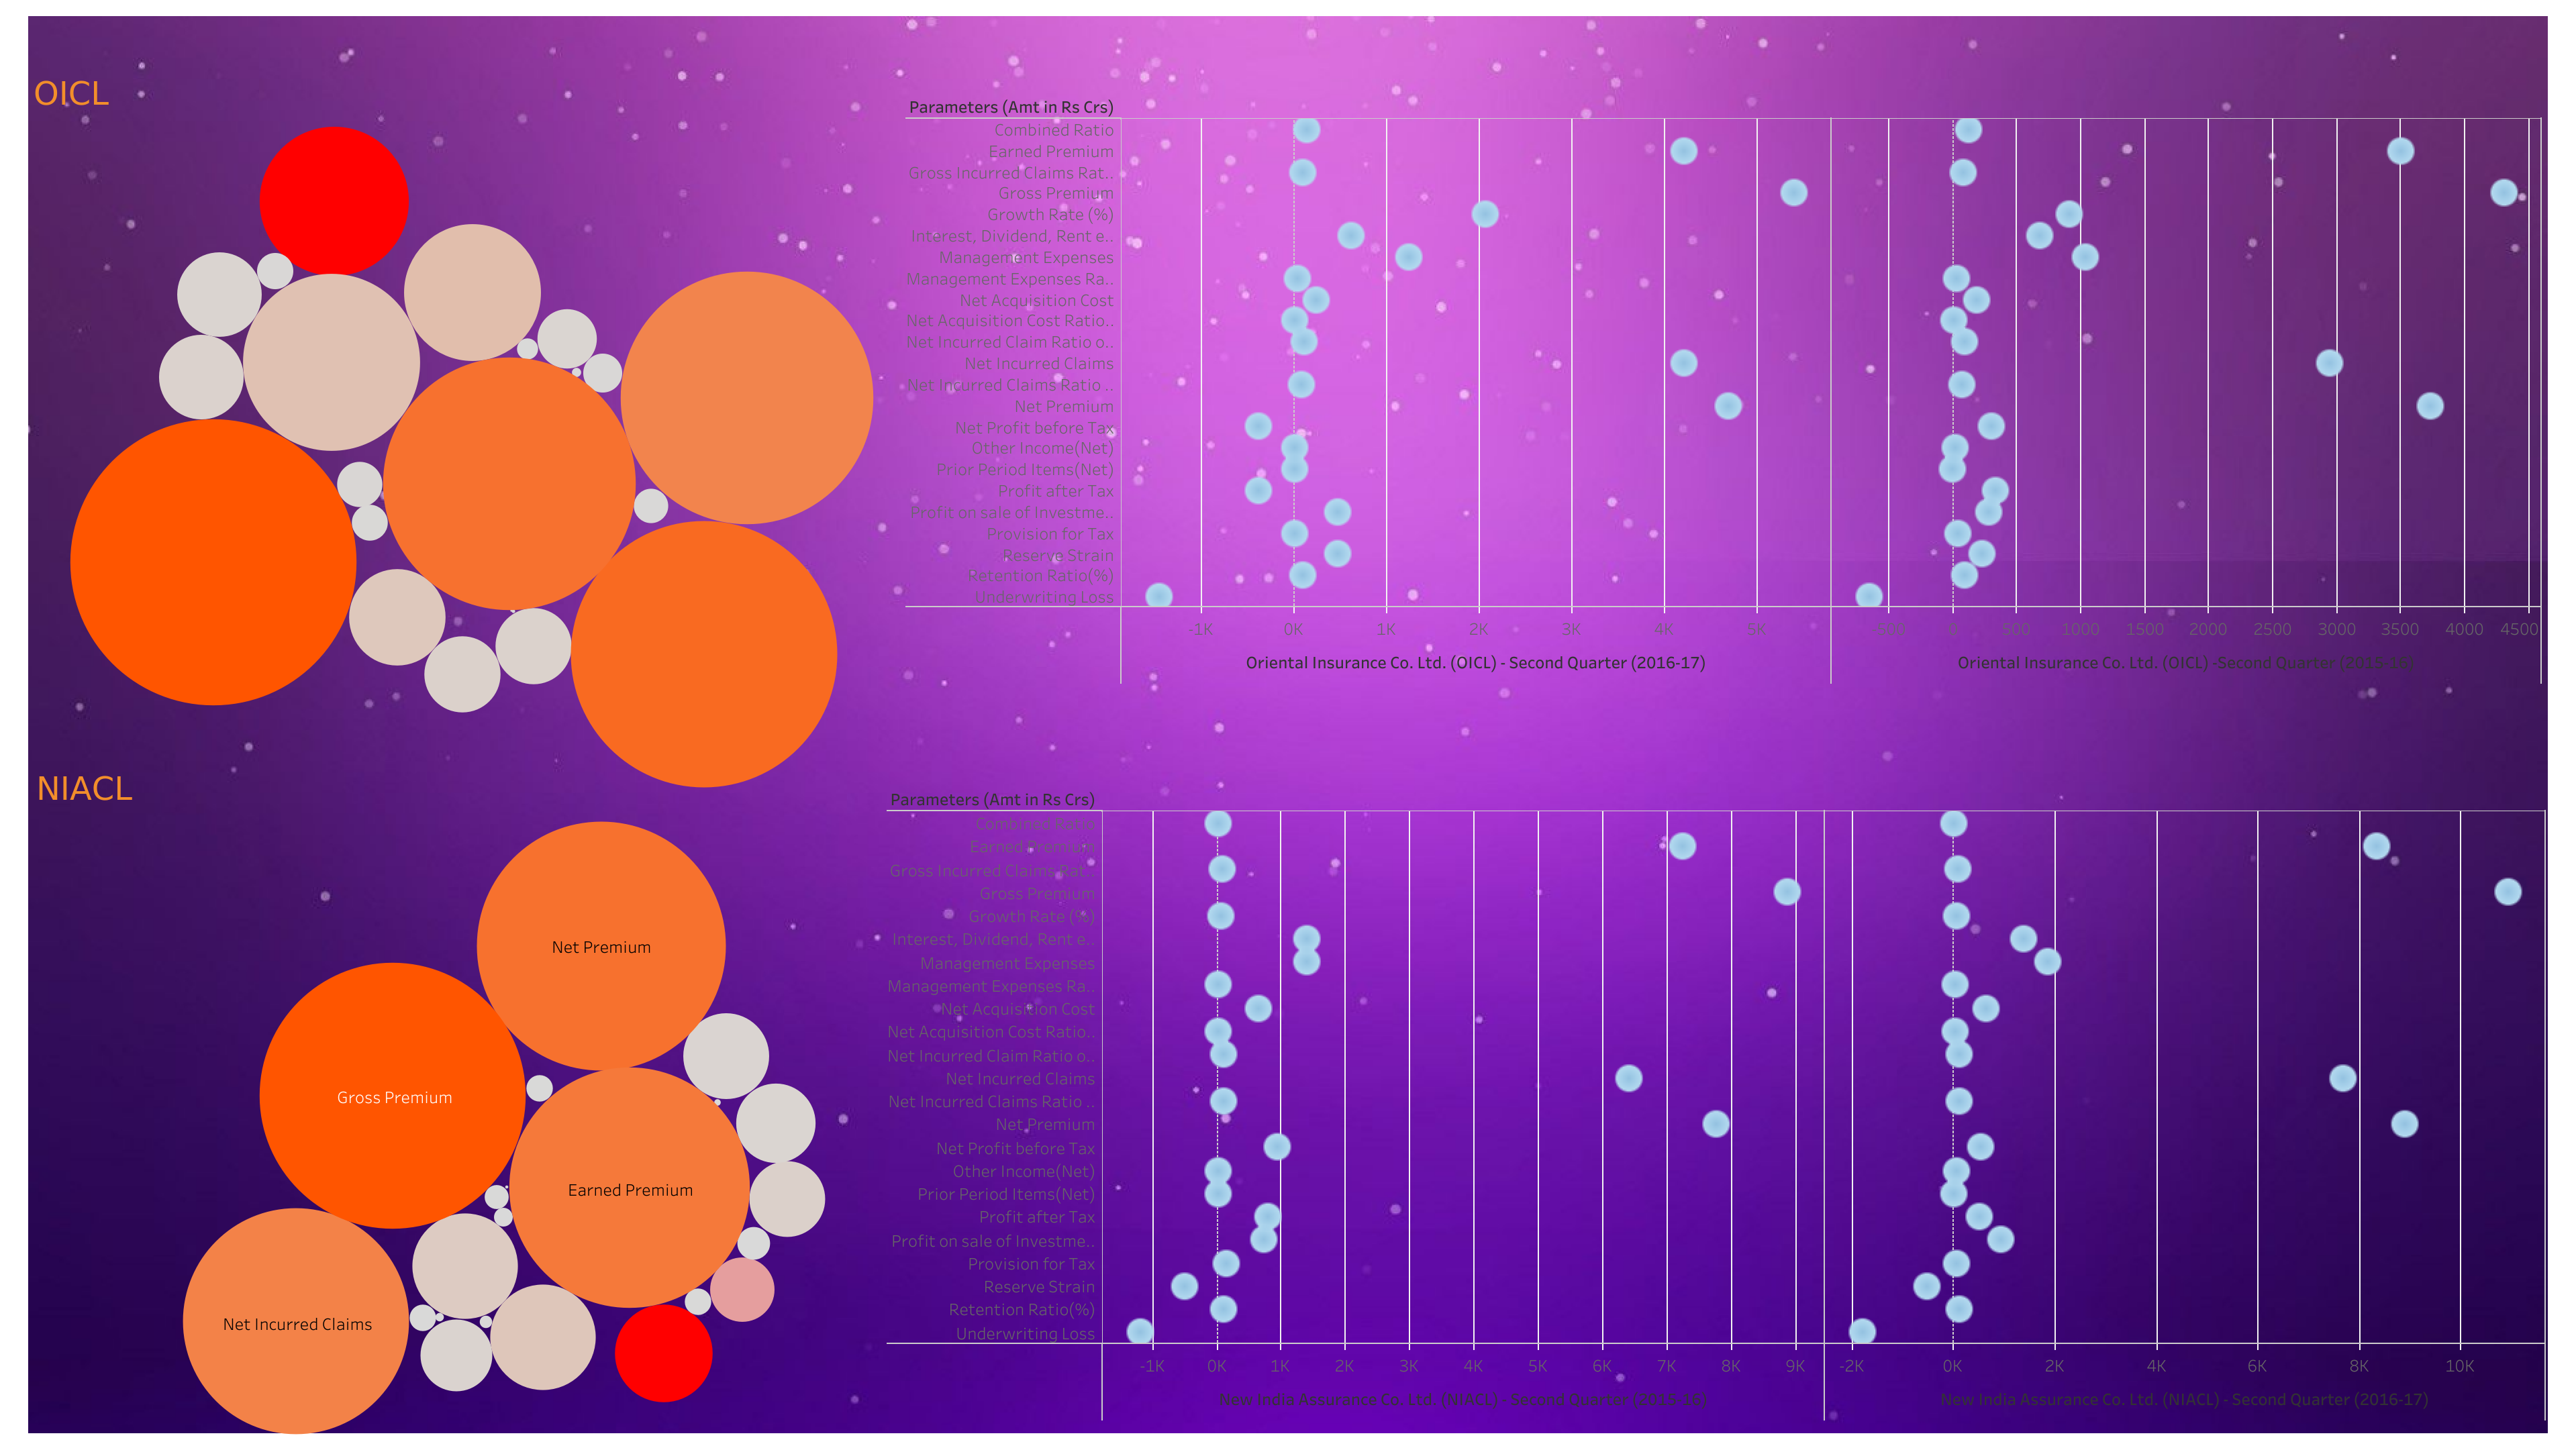

This screenshot's page, from the dashboard's own definition file:
{"tool":"tableau","page":{"name":"Dashboard 1 (2)","canvas":[1920,1080],"ordinal":1},"visuals":[{"type":"worksheet","box":[0,0,1920,1080]},{"type":"worksheet","param":"Image/1687812.jpg","box":[8,8,1904,1064]},{"type":"worksheet","title":"Sheet 3","mark":"Circle","box":[21,49,661,538]},{"type":"worksheet","title":"Sheet 7","mark":"Heatmap","rows":["Parameters (Amt in Rs Crs)"],"cols":["Oriental Insurance Co. Ltd. (OICL) - Second Quarter (2016-17","Oriental Insurance Co. Ltd. (OICL) -Second Quarter (2015-16)"],"box":[675,53,1219,457]},{"type":"worksheet","title":"Sheet 4","mark":"Circle","box":[23,567,705,502]},{"type":"worksheet","title":"Sheet 5","mark":"Heatmap","rows":["Parameters (Amt in Rs Crs)"],"cols":["New India Assurance Co. Ltd. (NIACL) - Second Quarter (2015-","New India Assurance Co. Ltd. (NIACL) - Second Quarter (2016-"],"box":[661,569,1236,490]}]}

Visuals, with their boxes in screenshot pixels (x1, y1, x2, y2), scaled from the page's 1920x1080 canvas onto the 2576x1448 screenshot:
worksheet: <box>0,0,2575,1447</box>
worksheet: <box>11,11,2565,1437</box>
"Sheet 3" worksheet (Circle marks): <box>28,66,915,787</box>
"Sheet 7" worksheet (Heatmap marks): <box>905,71,2541,684</box>
"Sheet 4" worksheet (Circle marks): <box>31,760,977,1433</box>
"Sheet 5" worksheet (Heatmap marks): <box>887,763,2545,1420</box>
